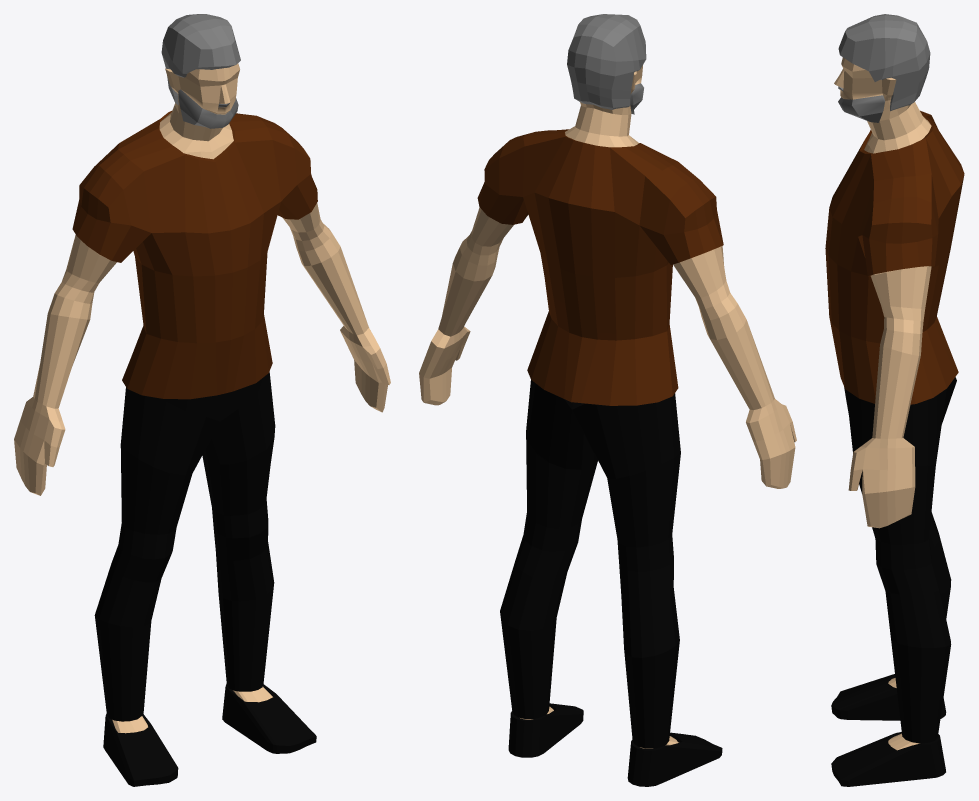
File: malecharacter.fbx
3 renders of one model, left to right at view 1: azimuth 30°, elevation 25°; view 2: azimuth 150°, elevation 25°; view 3: azimuth 270°, elevation 25°, orthographic.
Parts seen in each view (by area): view 1: Human full; view 2: Human full; view 3: Human full.
Part boxes in pixels (box(x1,y1,x2,y2)): Human full: box(14, 14, 390, 786); Human full: box(419, 14, 796, 786); Human full: box(825, 14, 964, 786).
Size of the model in its own units: 102 by 199 by 34.8.
